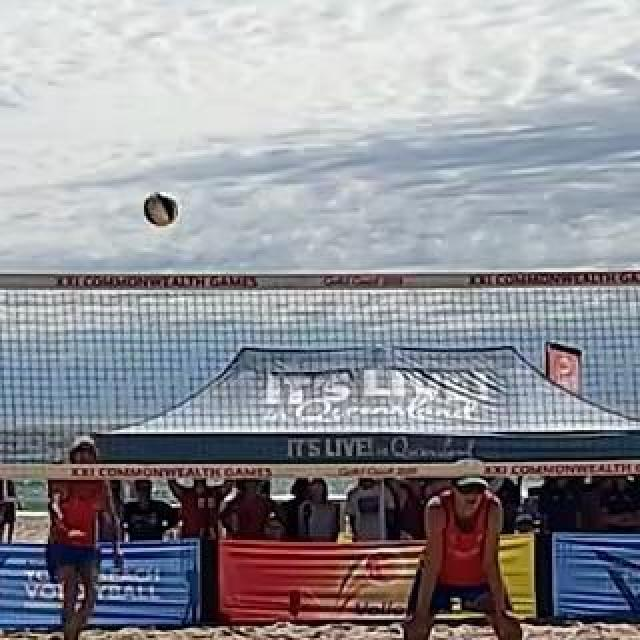volleyball: (143, 194, 177, 228)
